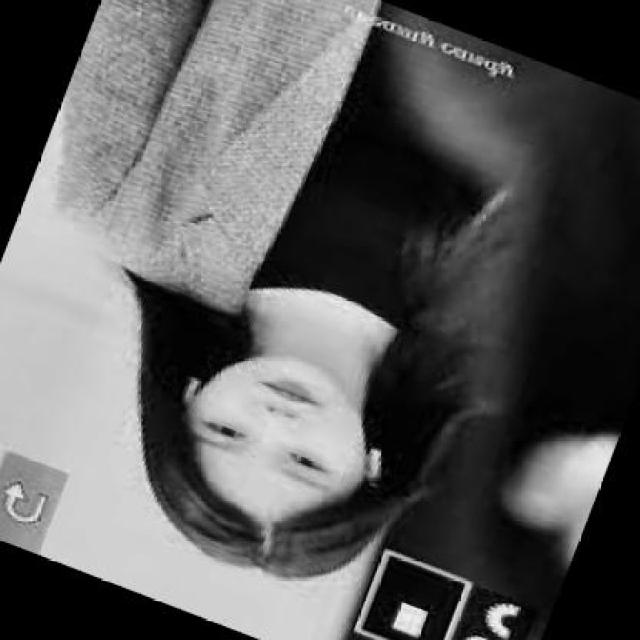earphone: (173, 361, 209, 417), (360, 432, 390, 491)
